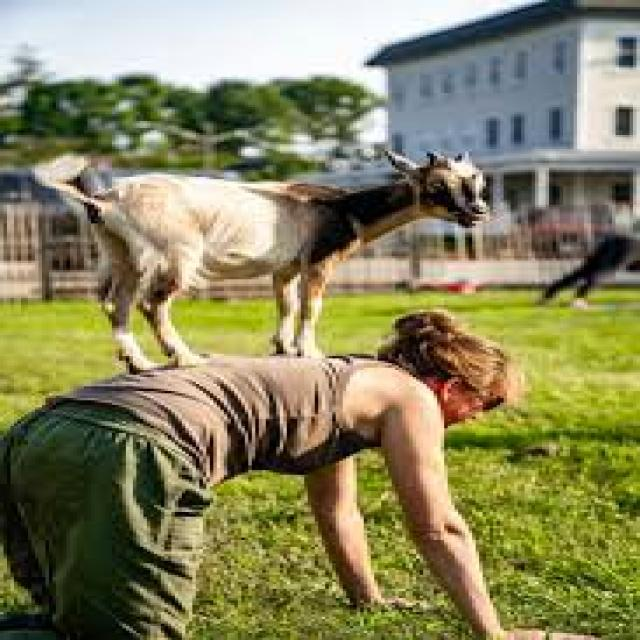goat: (35, 151, 486, 370)
